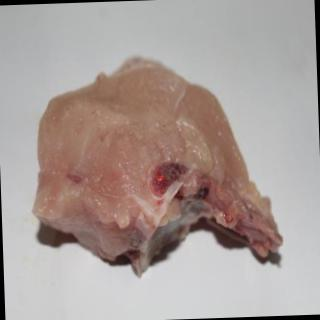Ayam: (33, 55, 284, 276)
